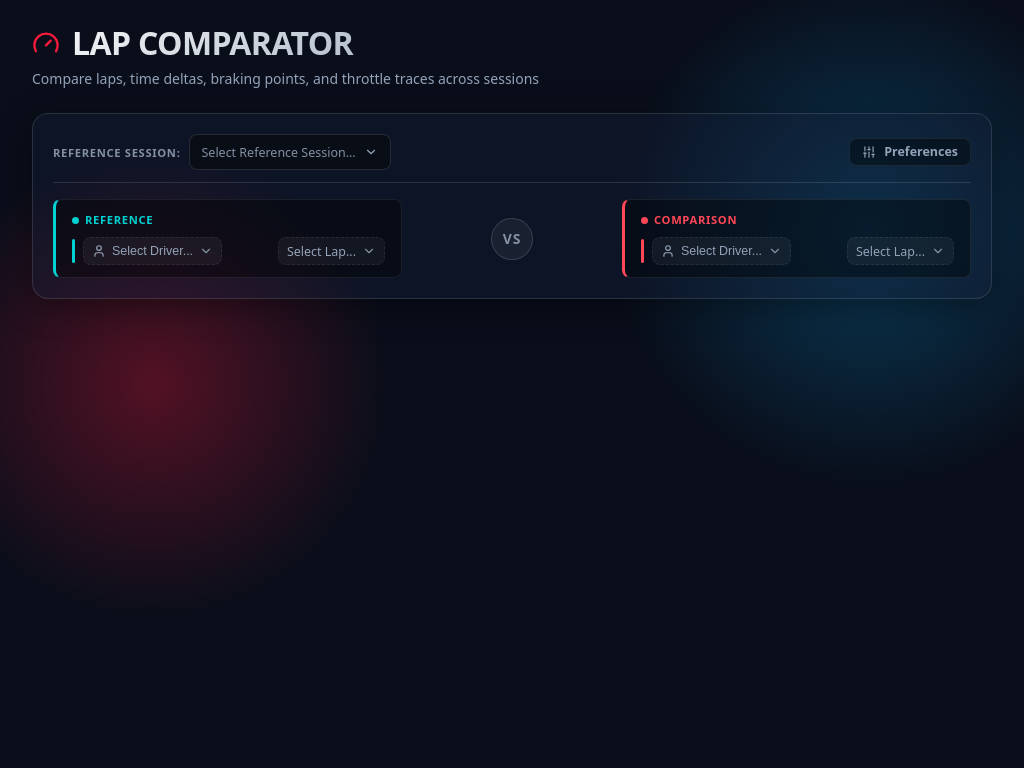
LapComparator Component › filters sessions using search bar and category tabs in custom dropdown
Click the button with test id "session-selector-trigger": (290, 152) x1=188 y1=134 x2=391 y2=170
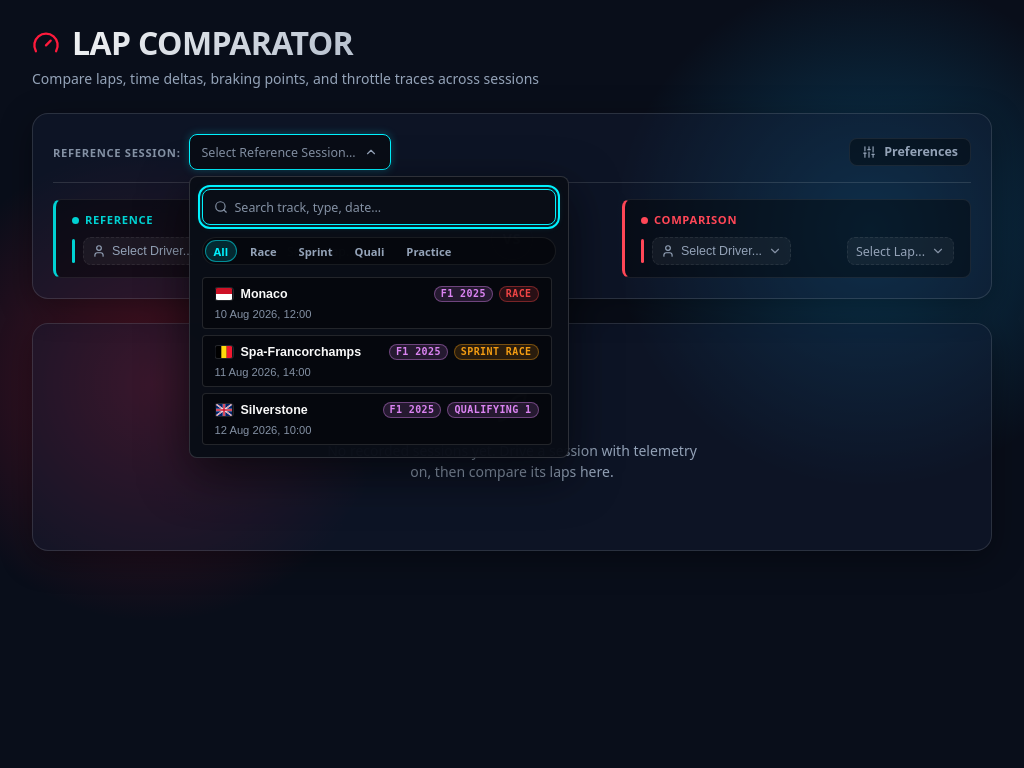
expect the option "Monaco F1 2025 Race 10 Aug 2026, 12:00" is shown: met, box x1=202 y1=277 x2=552 y2=329
// Search for "Silverstone"
In the field with placeholder "Search track, type, date...": (378, 207) x1=202 y1=189 x2=556 y2=225, type "Silverstone"
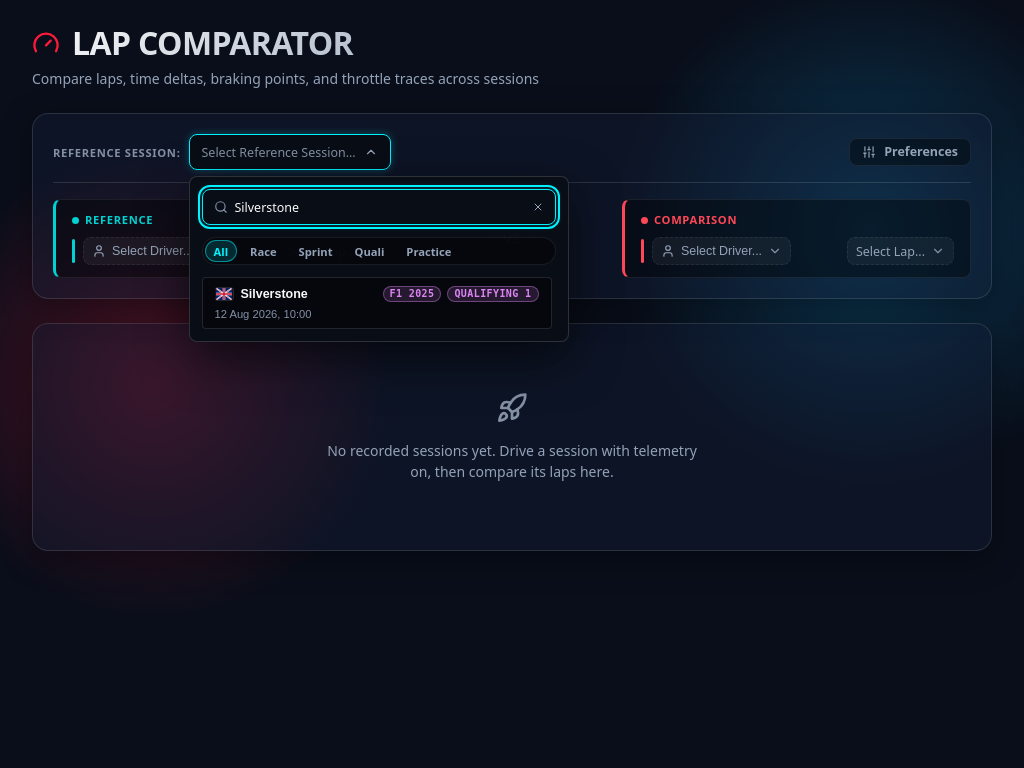
expect the option "Silverstone F1 2025 Qualifying 1 12 Aug 2026, 10:00" is shown: met, box x1=202 y1=277 x2=552 y2=329
expect the option "Monaco" is gone: met
expect the option "Spa-Francorchamps" is gone: met
// Clear search and filter by "Sprint" tab
Clear the field with placeholder "Search track, type, date...": (378, 207) x1=202 y1=189 x2=556 y2=225
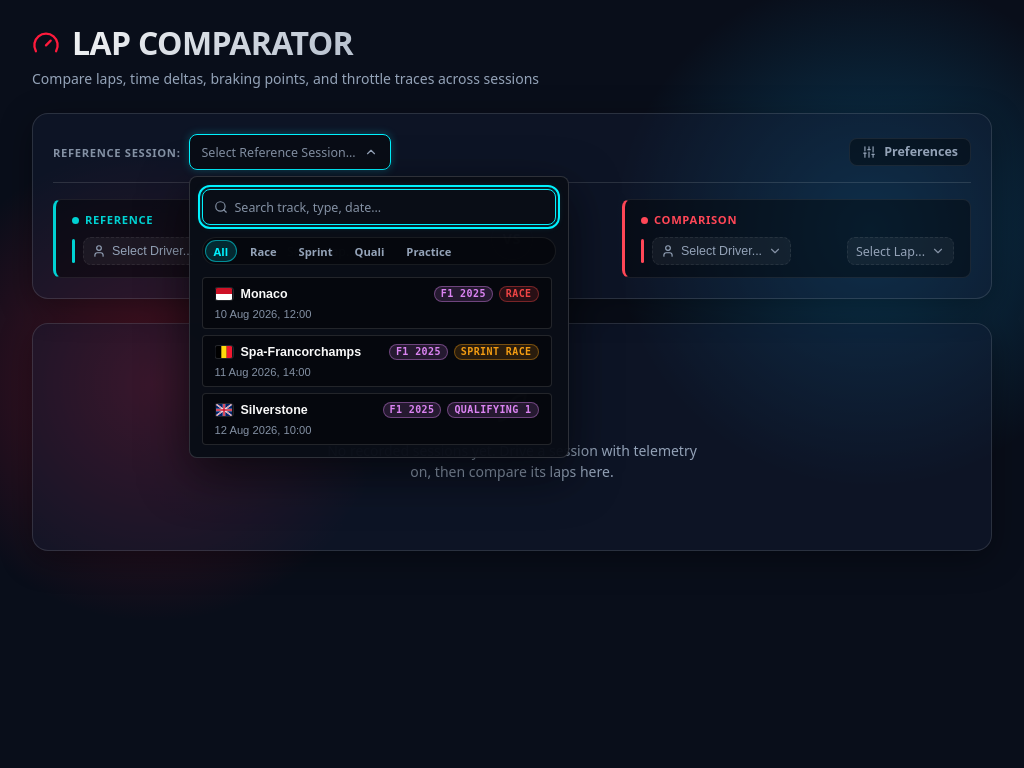
Click the radio button labelled "Sprint": (316, 251) x1=290 y1=240 x2=342 y2=262
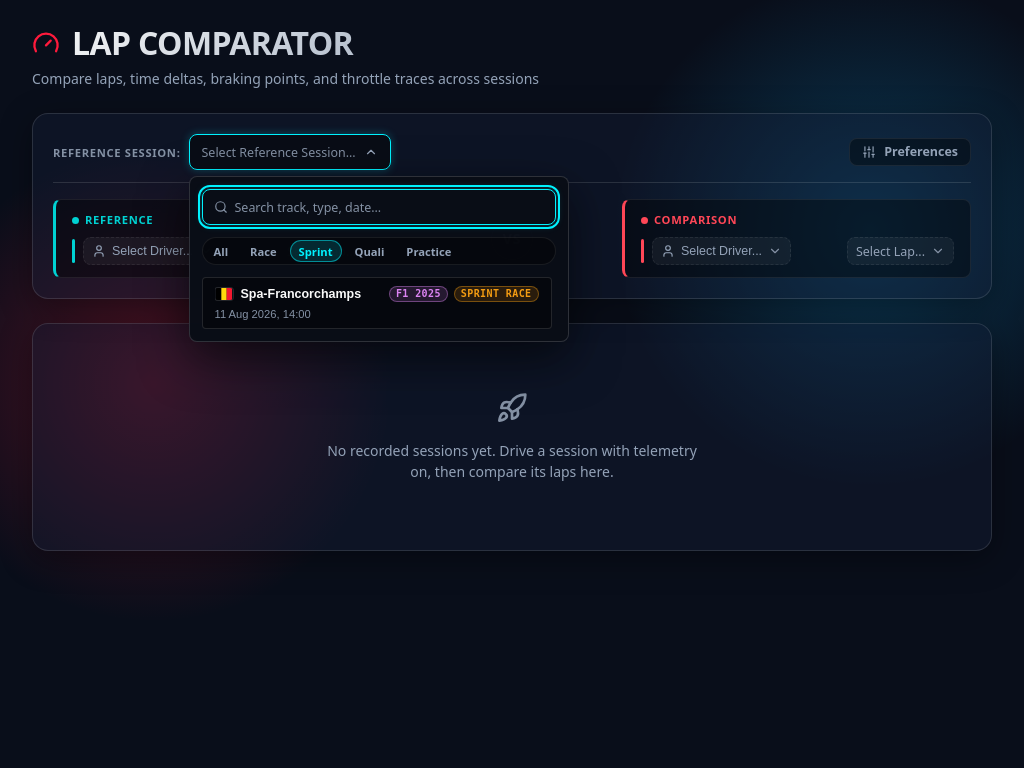
expect the option "Spa-Francorchamps F1 2025 Sprint Race 11 Aug 2026, 14:00" is shown: met, box x1=202 y1=277 x2=552 y2=329
expect the option "Monaco" is gone: met
expect the option "Silverstone" is gone: met
